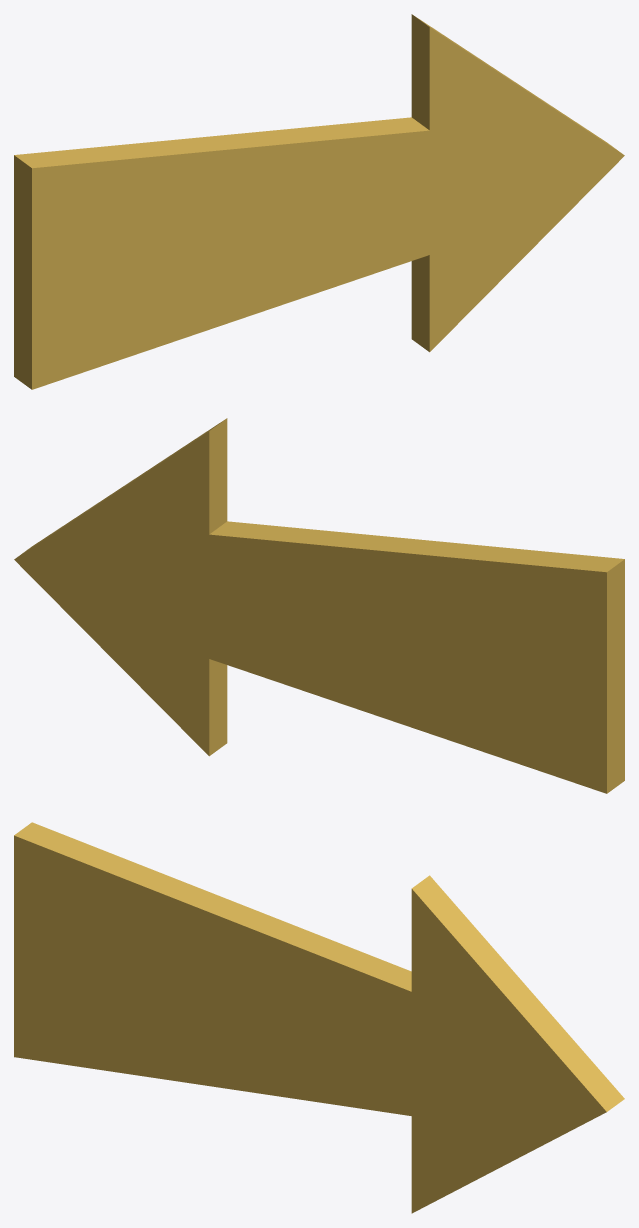
The model's file is arrow.fbx.
3 renders of one model, top to bottom at view 1: azimuth 30°, elevation 25°; view 2: azimuth 150°, elevation 25°; view 3: azimuth 330°, elevation 25°, orthographic.
Visible parts, largest first — view 1: Arrow; view 2: Arrow; view 3: Arrow.
Boxes of the visible parts, x1,y1,x2,y2 form: Arrow: (14,14,624,389); Arrow: (14,418,624,793); Arrow: (14,822,624,1213).
Size of the model in its own units: 41688 by 21848 by 2198.
